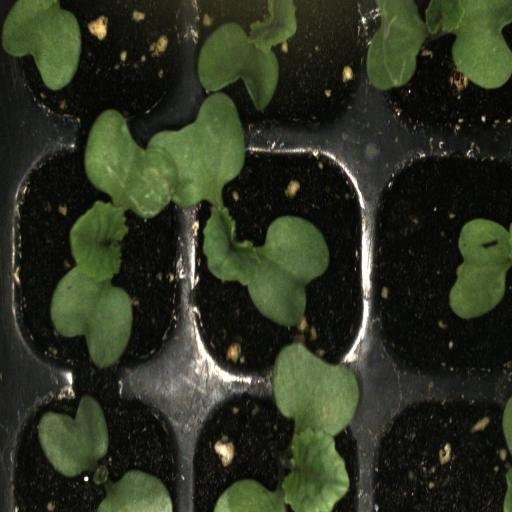Folha: (0, 0, 81, 91)
Germinacao: (182, 133, 373, 384), (7, 137, 187, 383), (192, 0, 372, 137), (184, 381, 372, 512), (8, 380, 186, 512), (373, 0, 512, 135)
